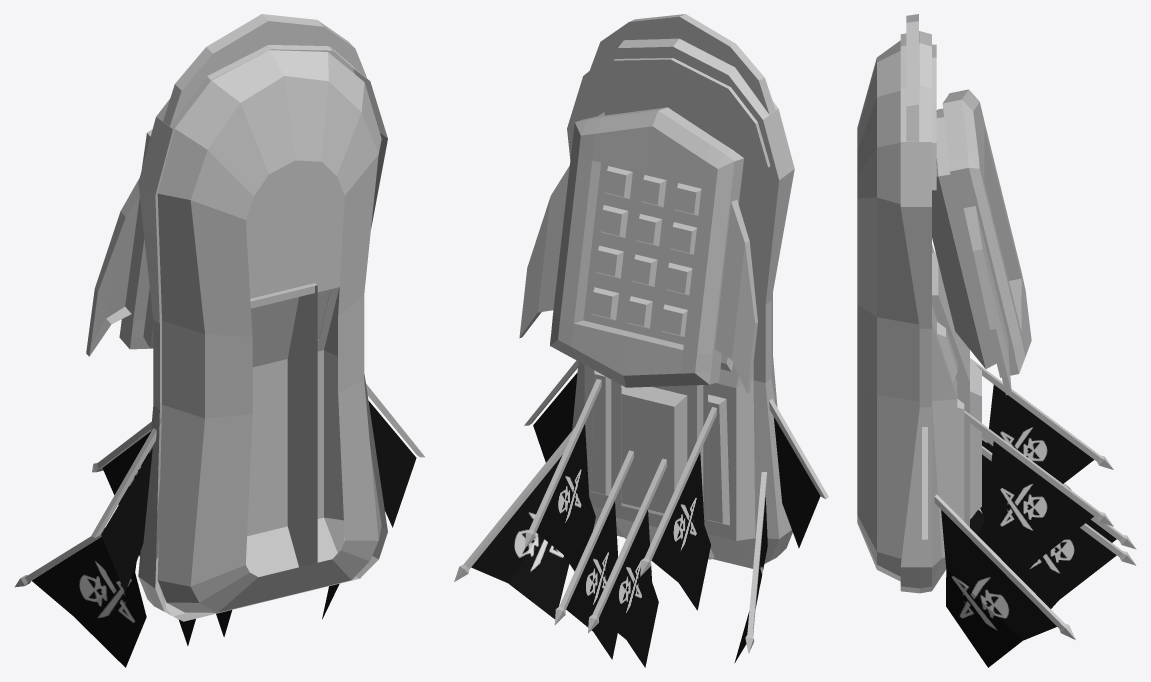
The model's file is pirate_multi_my_9.fbx.
3 renders of one model, left to right at view 1: azimuth 30°, elevation 25°; view 2: azimuth 150°, elevation 25°; view 3: azimuth 270°, elevation 25°, orthographic. The views are drawn at different scales.
Parts seen in each view (by area): view 1: Cube.363; view 2: Cube.363; view 3: Cube.363.
Part boxes in pixels (bbox=[...]): Cube.363: bbox=[15, 14, 424, 667]; Cube.363: bbox=[454, 14, 828, 667]; Cube.363: bbox=[857, 14, 1136, 667].
Size of the model in its own units: 405 by 782 by 323.
